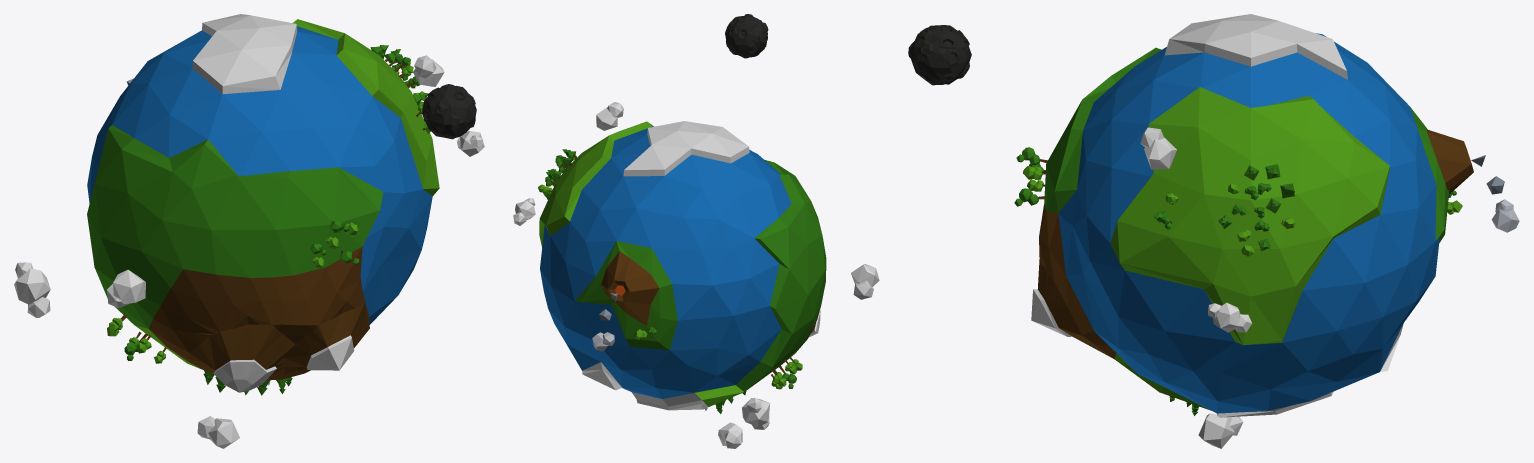
The model's file is low_poly_planet_with_satellite.glb.
3 views of the same model, side by side, from view 1: azimuth 30°, elevation 25°; view 2: azimuth 150°, elevation 25°; view 3: azimuth 270°, elevation 25° (orthographic). The views are drawn at different scales.
Visible parts, largest first — view 1: Blue1-material, Green2-material, Brown1-material, White1-material (×6), Green1-material, Material_001-material; view 2: Blue1-material, Green2-material, White1-material (×6), Green1-material, Brown1-material, Material_001-material; view 3: Blue1-material, Green1-material, White1-material (×4), Brown1-material, Green2-material, Material_001-material, White3-material.
Part boxes in pixels (x1=…): Blue1-material: x1=87, y1=26, x2=432, y2=324; Green2-material: x1=87, y1=125, x2=383, y2=328; Brown1-material: x1=149, y1=246, x2=369, y2=380; White1-material (×6): x1=14, y1=14, x2=484, y2=448; Green1-material: x1=135, y1=19, x2=439, y2=372; Material_001-material: x1=422, y1=84, x2=476, y2=139; Blue1-material: x1=540, y1=126, x2=791, y2=398; Green2-material: x1=575, y1=160, x2=826, y2=391; White1-material (×6): x1=513, y1=102, x2=879, y2=448; Green1-material: x1=539, y1=121, x2=802, y2=406; Brown1-material: x1=601, y1=251, x2=820, y2=347; Material_001-material: x1=725, y1=14, x2=768, y2=58; Blue1-material: x1=1058, y1=33, x2=1439, y2=413; Green1-material: x1=1110, y1=87, x2=1389, y2=410; White1-material (×4): x1=1031, y1=14, x2=1403, y2=448; Brown1-material: x1=1038, y1=130, x2=1473, y2=359; Green2-material: x1=1044, y1=47, x2=1449, y2=242; Material_001-material: x1=908, y1=25, x2=971, y2=85; White3-material: x1=1491, y1=199, x2=1519, y2=232.
Bounding box in the file's own units: 9.3 × 9.21 × 10.7.
